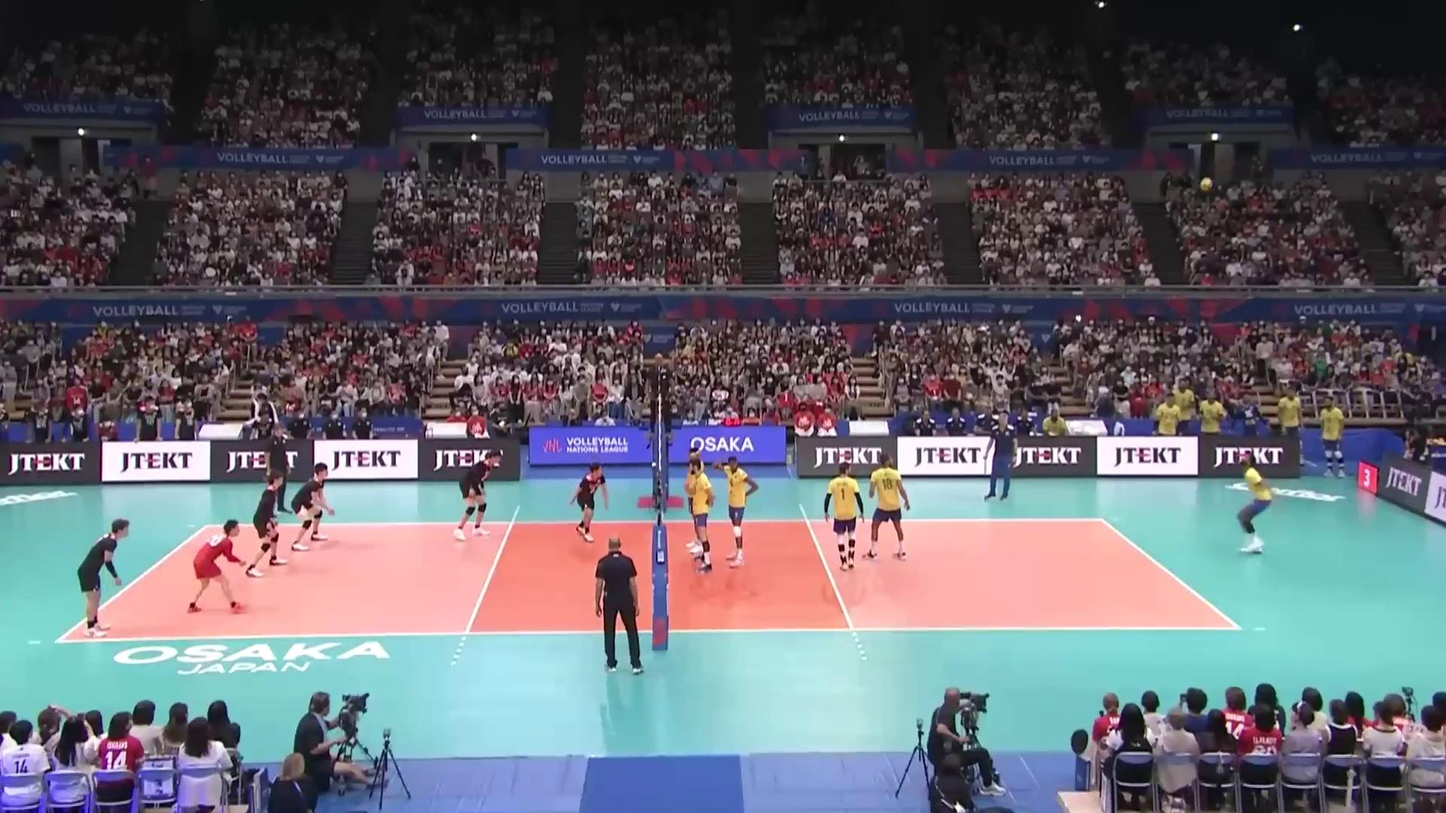player: (76, 519, 127, 634), (185, 519, 248, 612), (710, 456, 756, 568), (865, 456, 912, 562), (824, 466, 867, 571), (457, 451, 501, 539), (1236, 456, 1275, 555), (291, 461, 333, 551), (250, 473, 286, 577), (569, 461, 609, 541), (687, 461, 713, 572), (686, 449, 708, 553)
refree: (593, 536, 642, 671), (648, 354, 673, 448)
